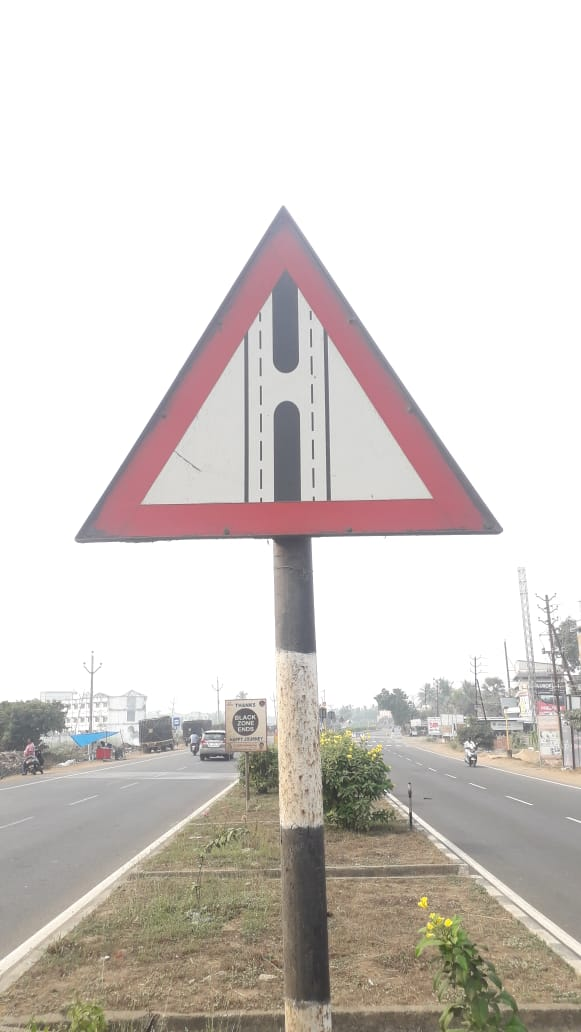highway go straight: (56, 181, 515, 592)
